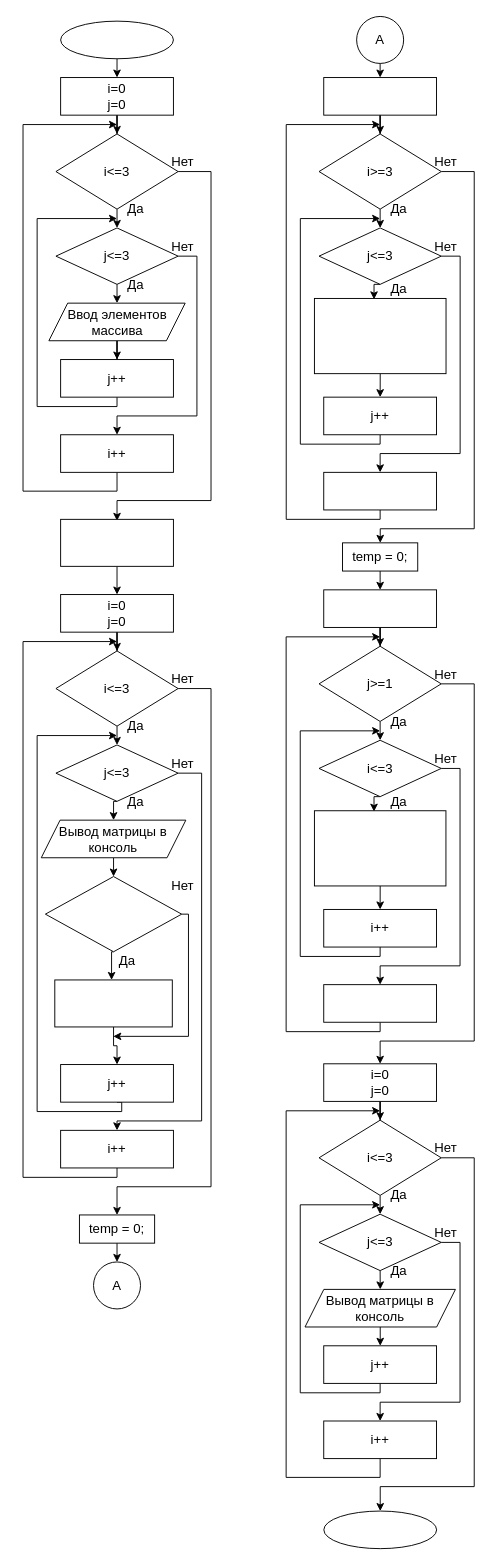
Some shapes in this 498 by 1565 pixel diagram are drawn without their labels. The centre of each missing label's shape, as x and y in pixels:
"i--" goes at [380,490].
"i=0 j=col" goes at [380,608].
"i=row j=0" goes at [380,96].
"j--" goes at [380,1003].
"max < mat[i][j]" goes at [113,914].
"max = mat[0][0], col = 0, row = 0" goes at [116,542].
"max = mat[i][j]; col = j; row = i;" goes at [113,1003].
"temp = mat[i][j]; mat[i][j] = mat[i - 1][j]; mat[i - 1][j] = temp;" goes at [379,336].
"temp = mat[i][j]; mat[i][j] = mat[i][j - 1]; mat[i][j - 1] = temp;" goes at [379,848].
"Конец" goes at [380,1529].
"начало" goes at [116,39].
